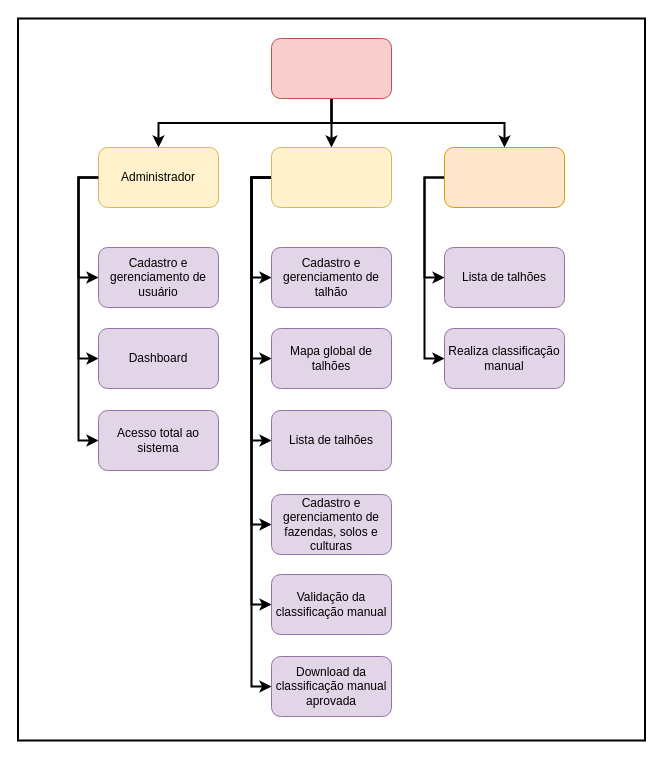
Some shapes in this 663 by 758 pixel diagram are drawn without their labels. Here are the shapes that lost their labels. From the top down, the centre of each, then its label:
At point 331,68: "Escopo usuário".
At point 331,177: "Consultor".
At point 504,177: "Analista".
